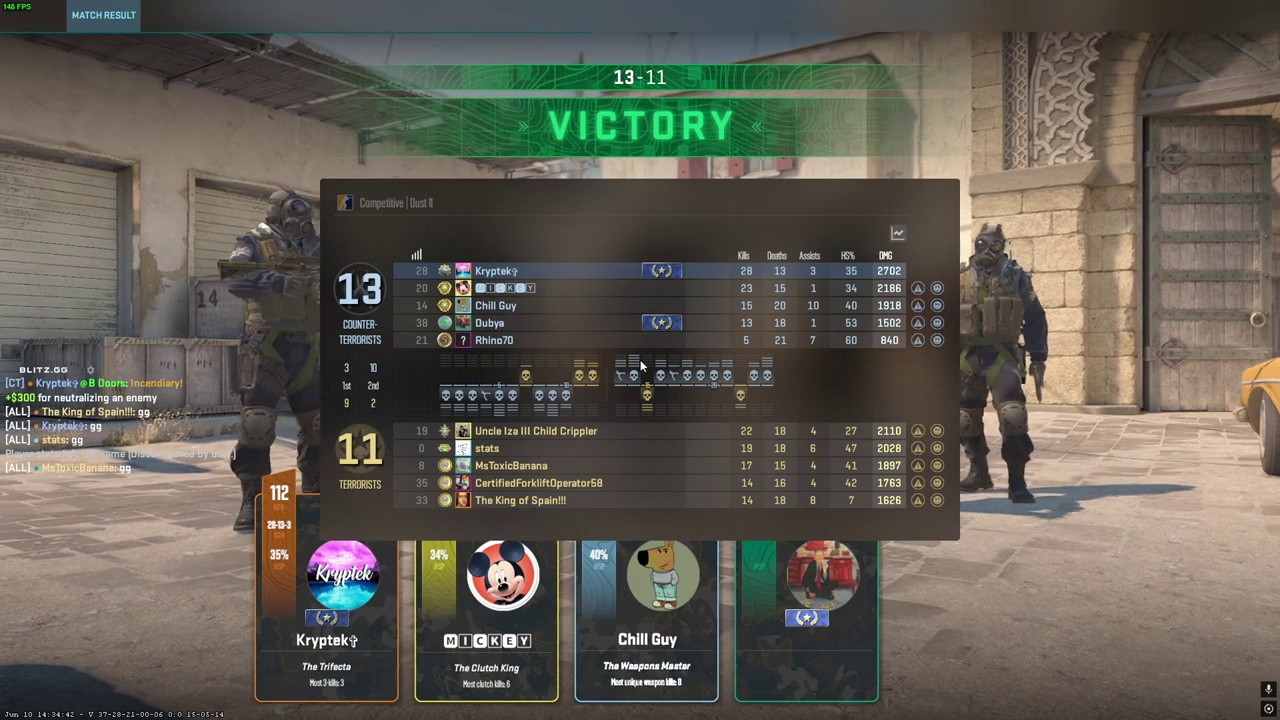CT: (224, 189, 324, 522), (957, 224, 1039, 504)
